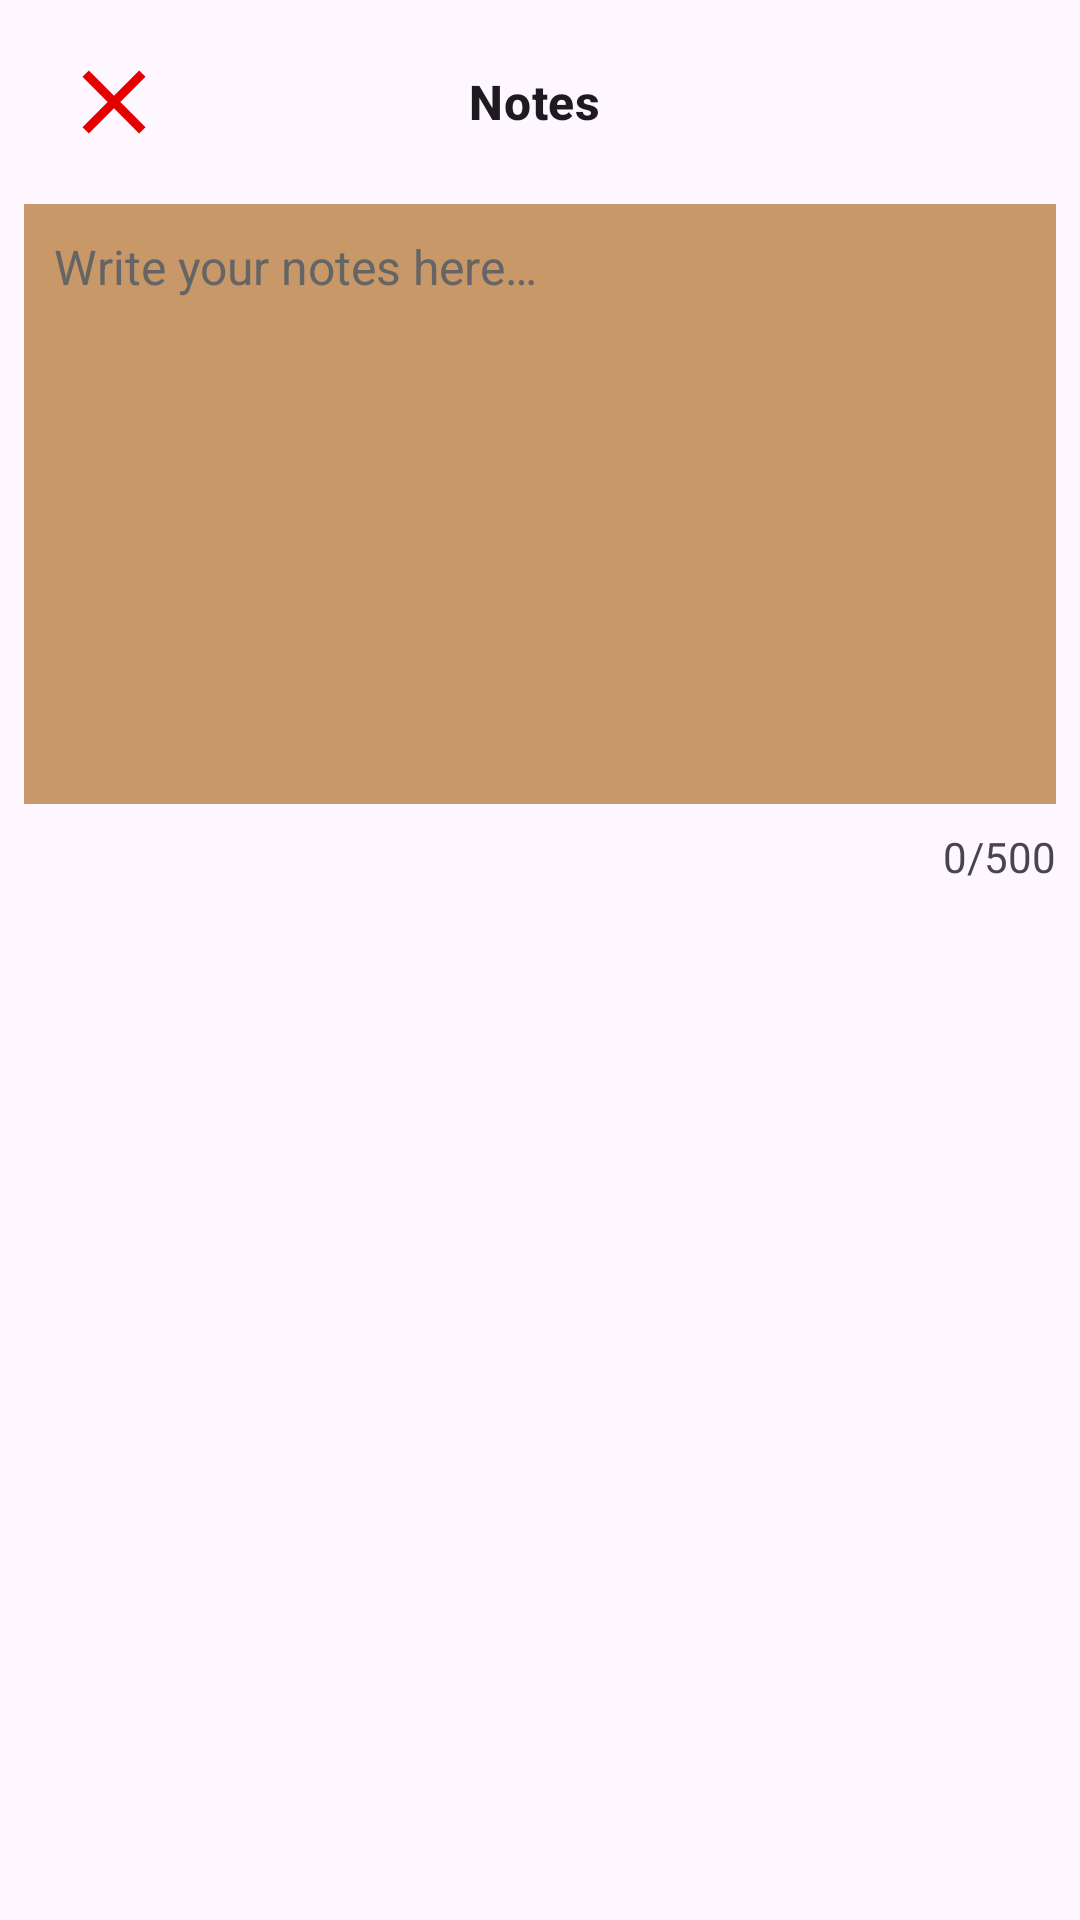

Named icons in this screenshot (1080x1920) and their centers, point (x, y):
Close popup: point (114, 102)
